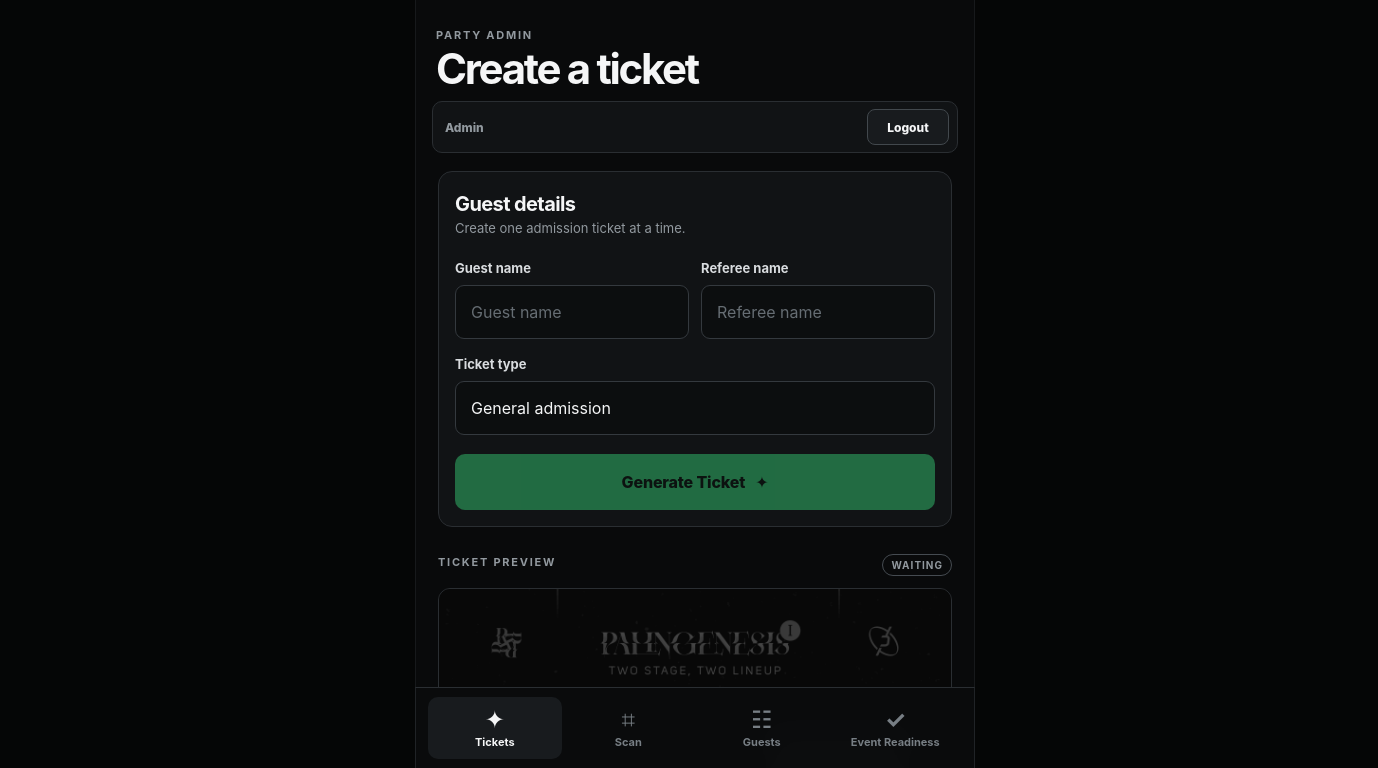
Test case: Admin ticket referee workflow › suggests previous referees while preserving free-text ticket creation
Click the field labelled "Referee name" at x=818, y=312, box [701, 286, 935, 340]
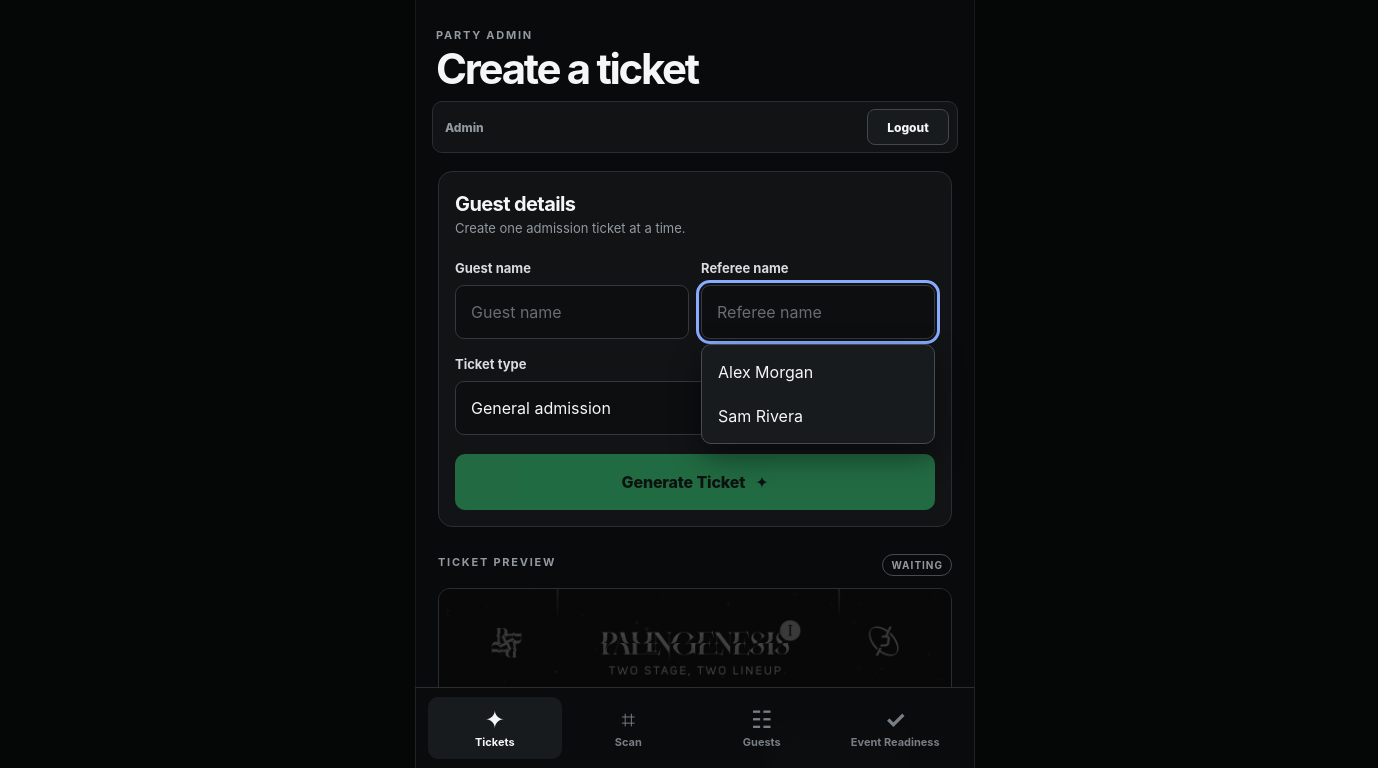
Now the option "Alex Morgan" is shown, box [707, 350, 929, 394]
Now the option "Sam Rivera" is shown, box [707, 394, 929, 438]
Type "Taylor Reed" into the field labelled "Guest name" at x=572, y=312, box [455, 286, 689, 340]
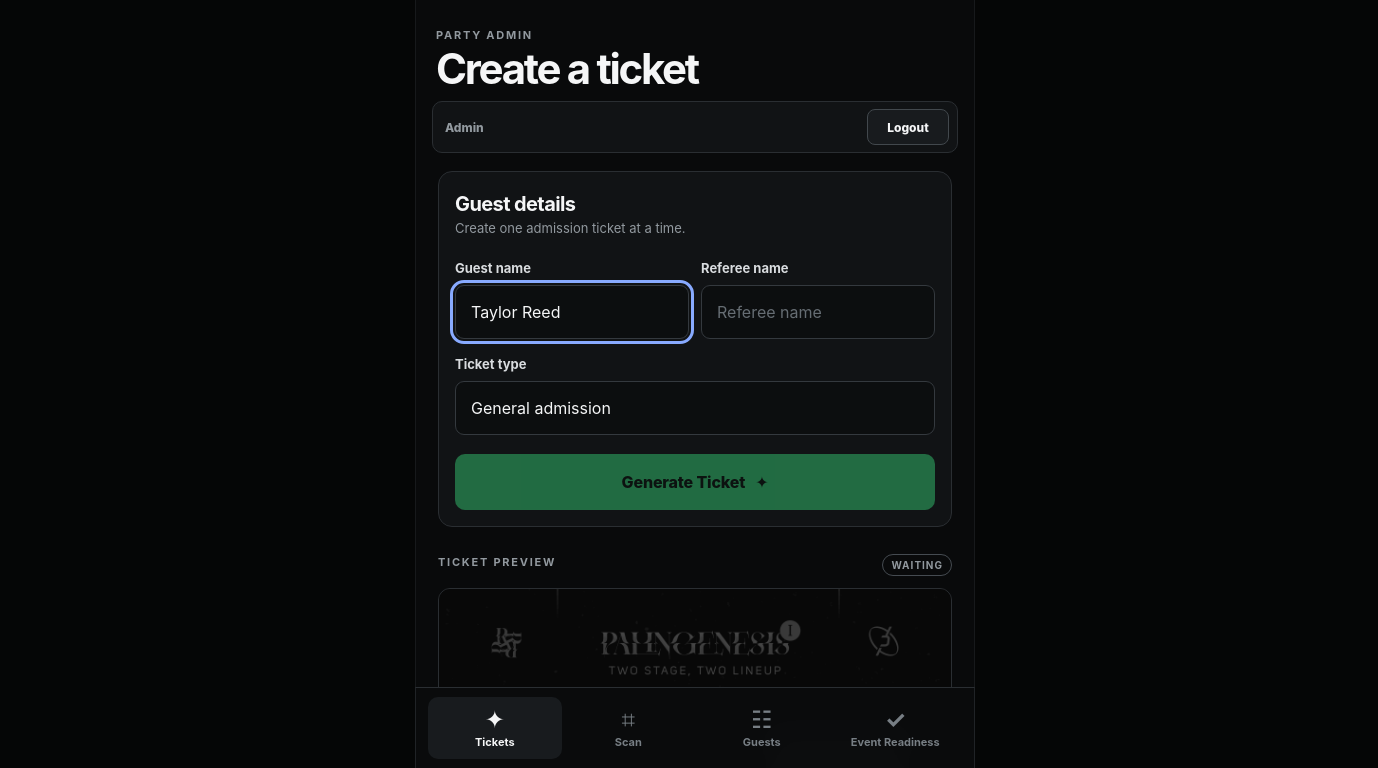
Type "New Referee" into the field labelled "Referee name" at x=818, y=312, box [701, 286, 935, 340]
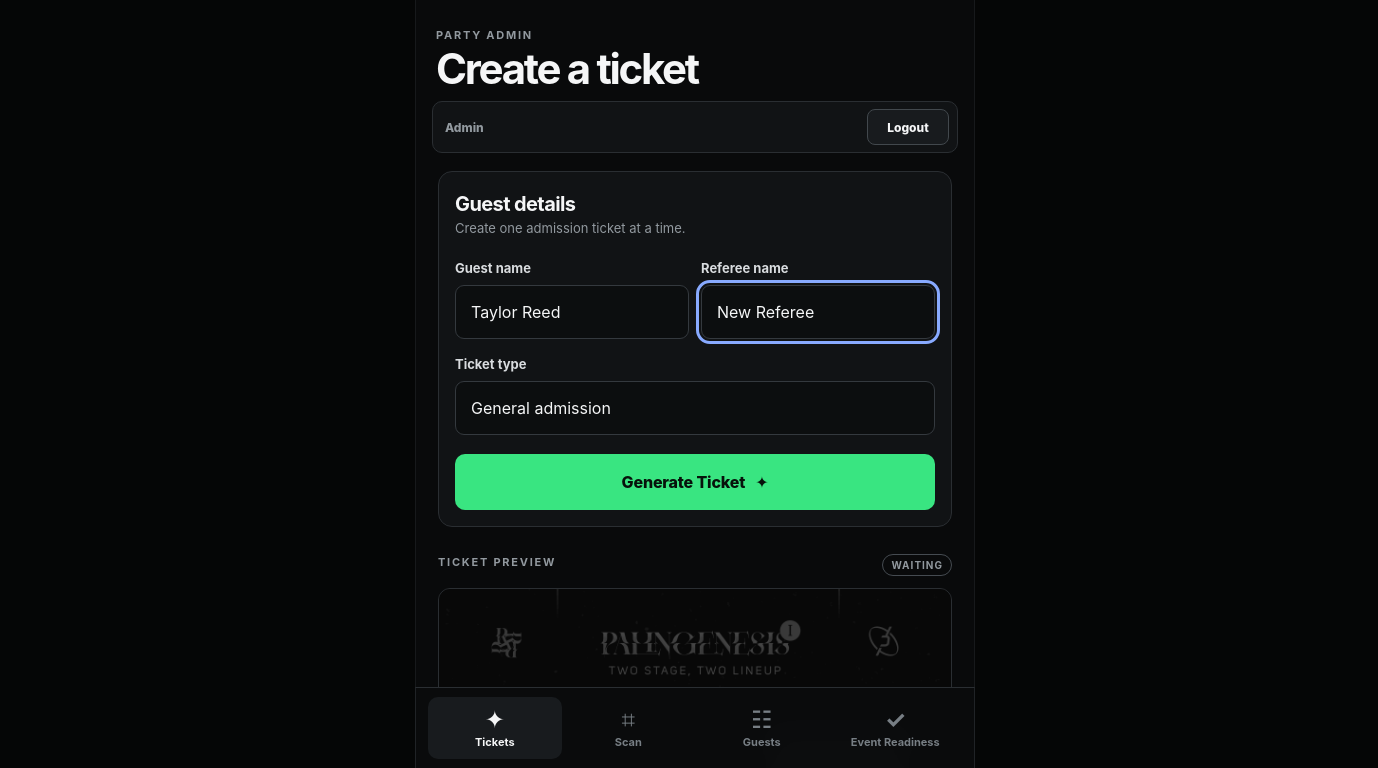
Click the button "Generate Ticket ✦" at x=695, y=482, box [455, 454, 935, 510]
(page scrolled)
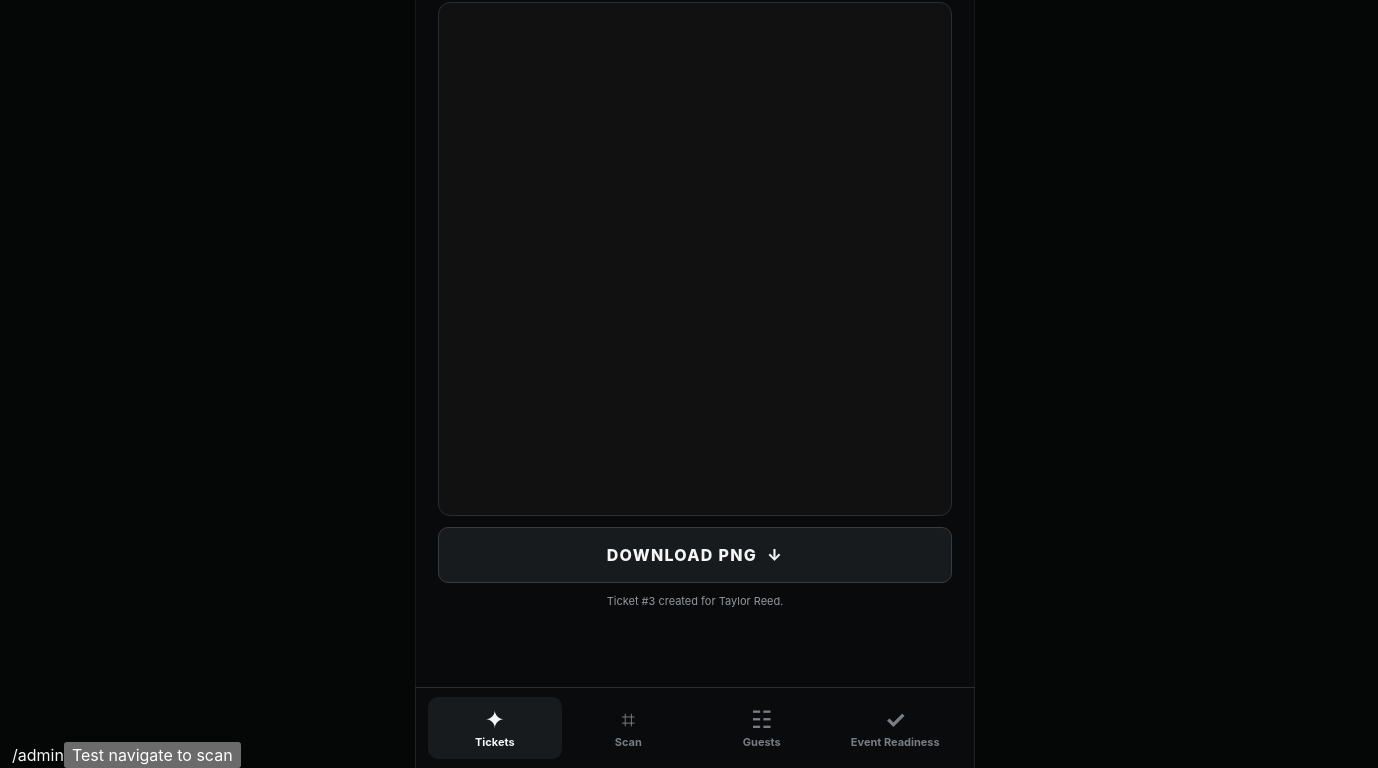
Now the text "Ticket #3 created for Taylor Reed." is shown, box [607, 594, 783, 608]
